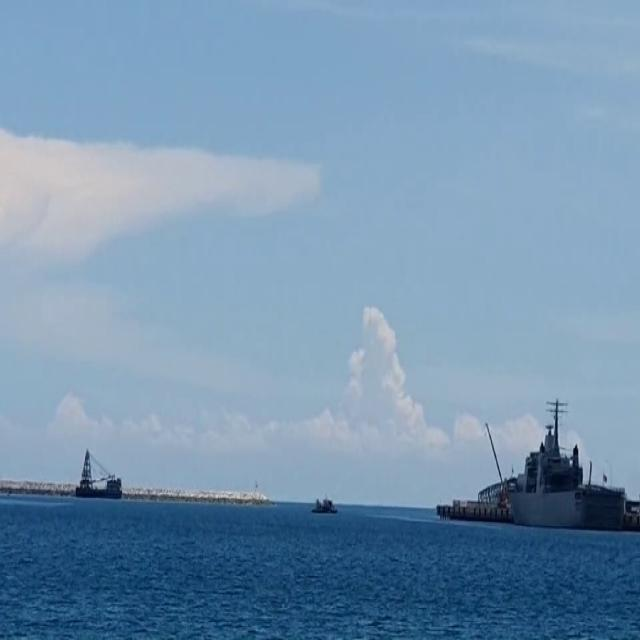civilianship: (76, 436, 149, 521)
warship1: (409, 397, 640, 552)
